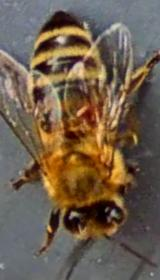varroa_mite: (68, 97, 108, 128)
